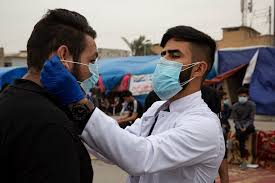mask: (155, 58, 182, 100), (87, 64, 101, 94)
